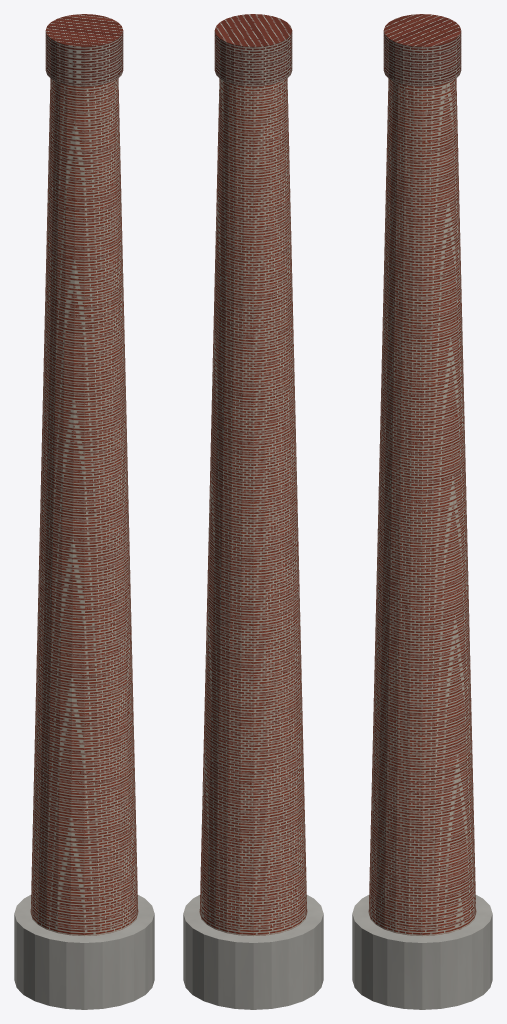
File: pv_komin_cihlovy.glb
3 views of the same model, side by side, from view 1: azimuth 30°, elevation 25°; view 2: azimuth 150°, elevation 25°; view 3: azimuth 270°, elevation 25° (orthographic).
Parts seen in each view (by area): view 1: dum; view 2: dum; view 3: dum.
Boxes of the visible parts, x1,y1,x2,y2 form: dum: [14, 14, 154, 1009]; dum: [183, 14, 323, 1009]; dum: [352, 14, 492, 1009].
Bounding box in the file's own units: 3.79 × 28.33 × 3.79.
1 material, 1 textured.
